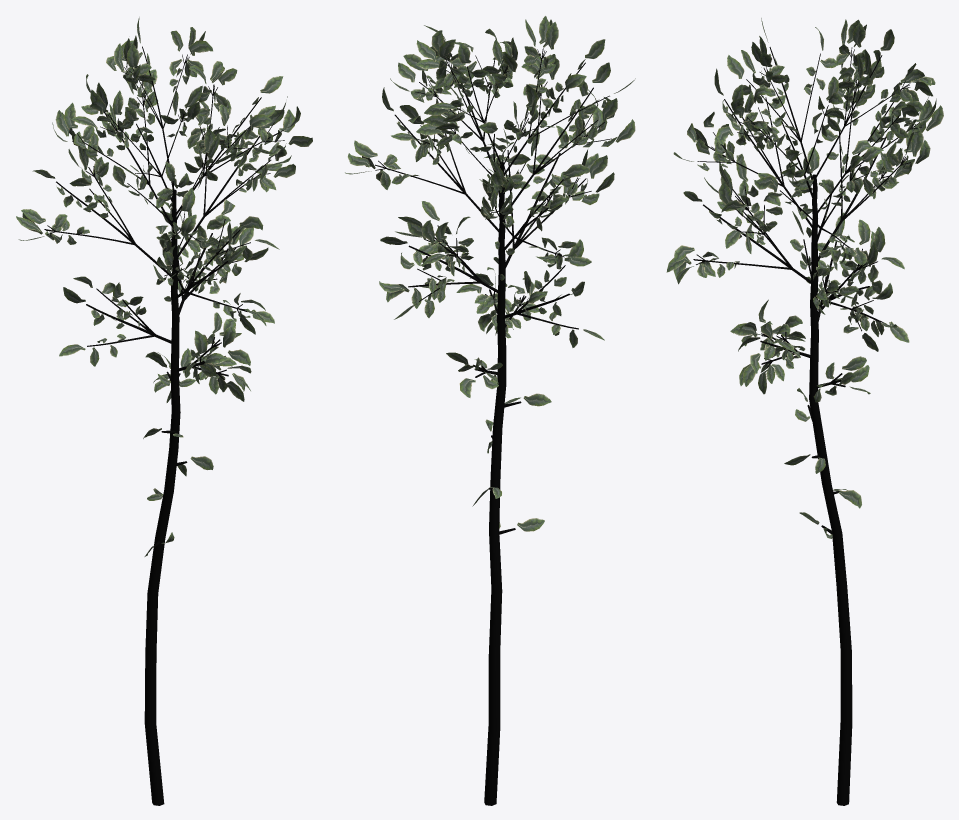
File: tree.fbx
The picture shows the model from 3 angles, left to right: view 1: azimuth 30°, elevation 25°; view 2: azimuth 150°, elevation 25°; view 3: azimuth 270°, elevation 25°; orthographic projection.
Visible parts, largest first — view 1: Leaf, Main; view 2: Leaf, Main; view 3: Leaf, Main.
Boxes of the visible parts, box(x1,y1,x2,y2) form: Leaf: box(16, 17, 312, 556); Main: box(44, 46, 284, 805); Leaf: box(345, 16, 635, 531); Main: box(375, 48, 611, 805); Leaf: box(666, 18, 943, 538); Main: box(693, 47, 921, 805).
Size of the model in its own units: 3.33 by 9.46 by 3.06.
